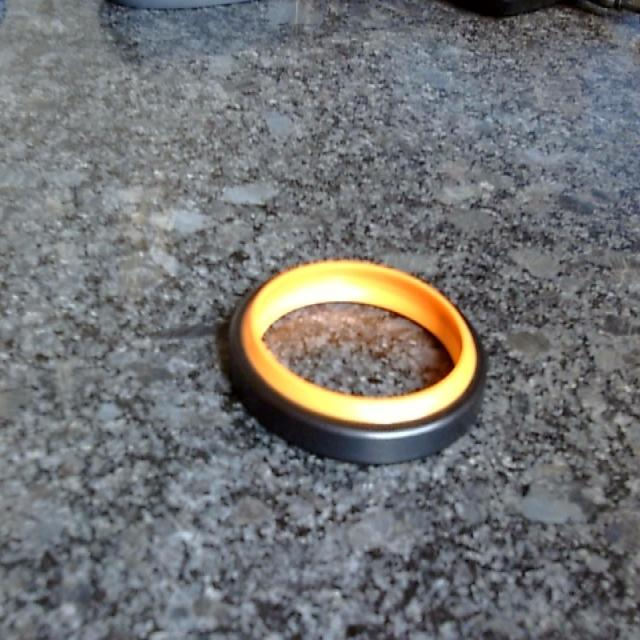orange-2-ring: (230, 260, 485, 463)
